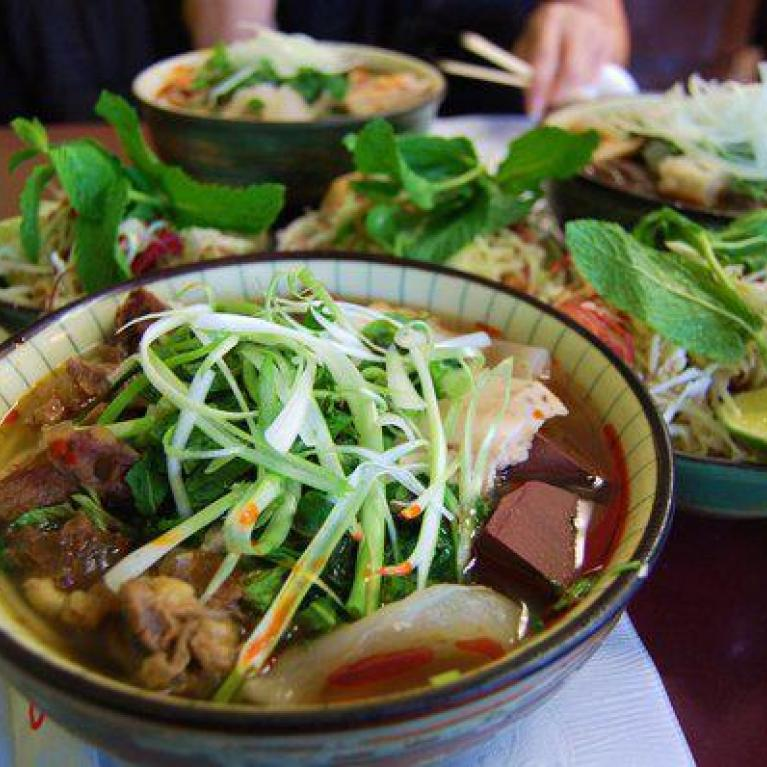onion: (197, 315, 443, 503)
